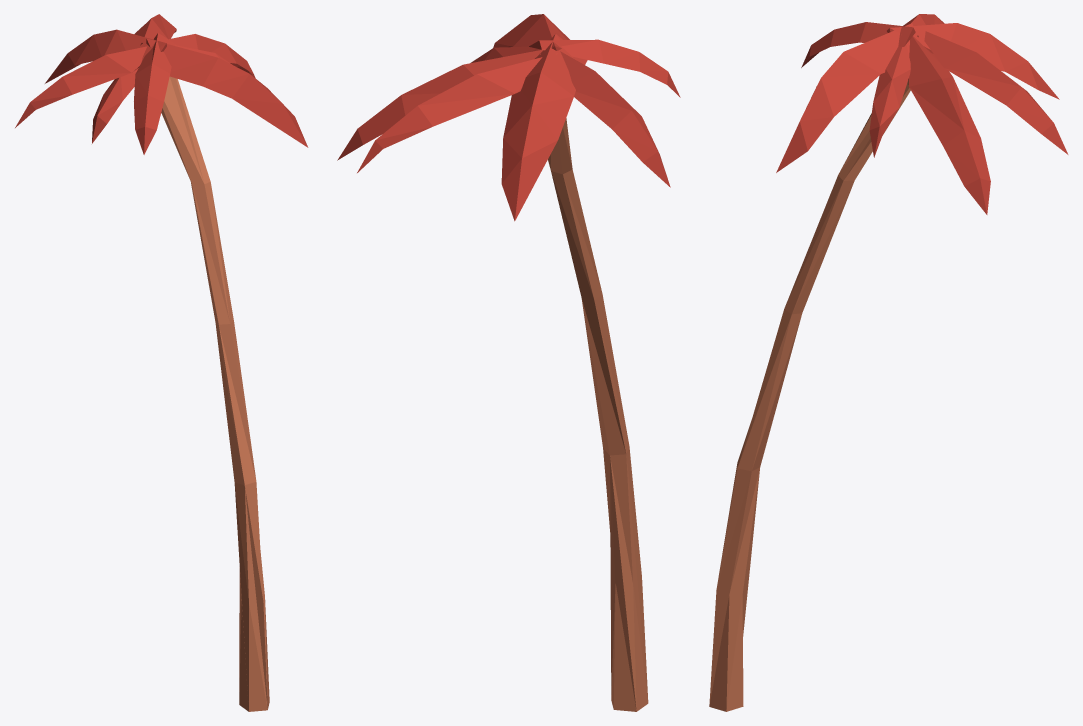
The model's file is Tree_10_summer_red_mat.fbx.
The picture shows the model from 3 angles, left to right: view 1: azimuth 30°, elevation 25°; view 2: azimuth 150°, elevation 25°; view 3: azimuth 270°, elevation 25°; orthographic projection. The views are drawn at different scales.
Parts seen in each view (by area): view 1: Tree_10_summer_red_mat; view 2: Tree_10_summer_red_mat; view 3: Tree_10_summer_red_mat.
Part boxes in pixels (box(x1,y1,x2,y2)): Tree_10_summer_red_mat: box(15, 14, 308, 711); Tree_10_summer_red_mat: box(337, 14, 680, 711); Tree_10_summer_red_mat: box(709, 14, 1068, 711).
Bounding box in the file's own units: 89.06 × 201 × 97.75.
